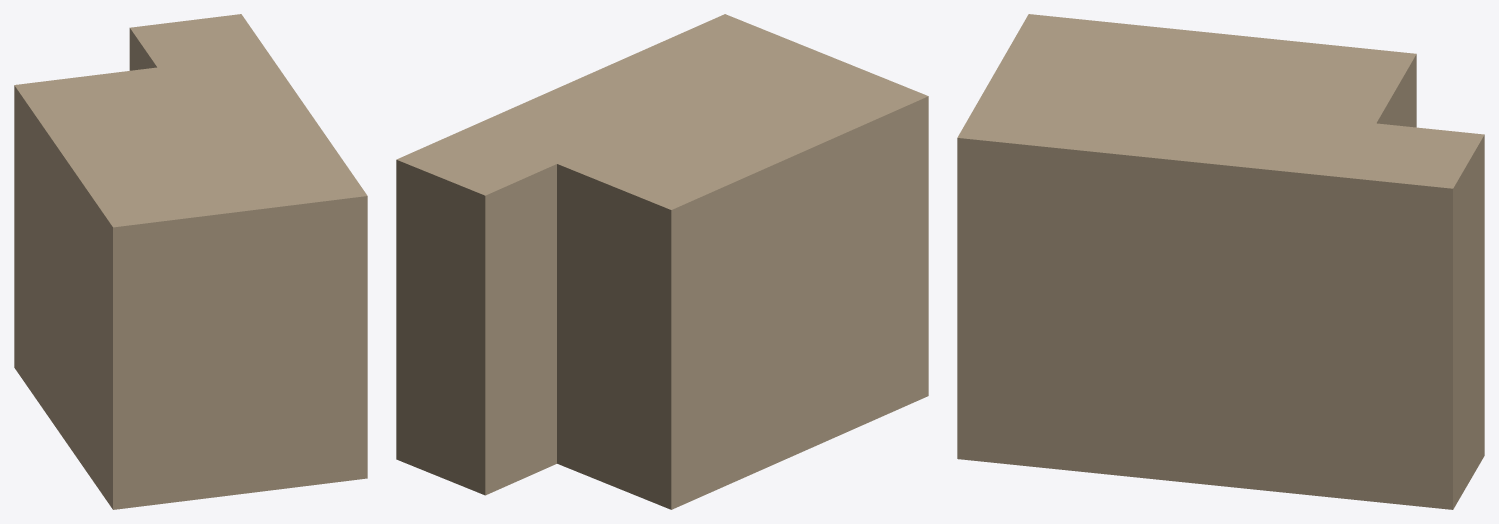
Rendered from bld_101374822.dae.
3 views of the same model, side by side, from view 1: azimuth 30°, elevation 25°; view 2: azimuth 150°, elevation 25°; view 3: azimuth 270°, elevation 25° (orthographic). The views are drawn at different scales.
Parts seen in each view (by area): view 1: bld_101374822; view 2: bld_101374822; view 3: bld_101374822.
Part boxes in pixels (box(x1,y1,x2,y2)): bld_101374822: box(14, 14, 367, 509); bld_101374822: box(396, 14, 928, 509); bld_101374822: box(957, 14, 1484, 509).
Bounding box in the file's own units: 9.33 × 11.9 × 8.
